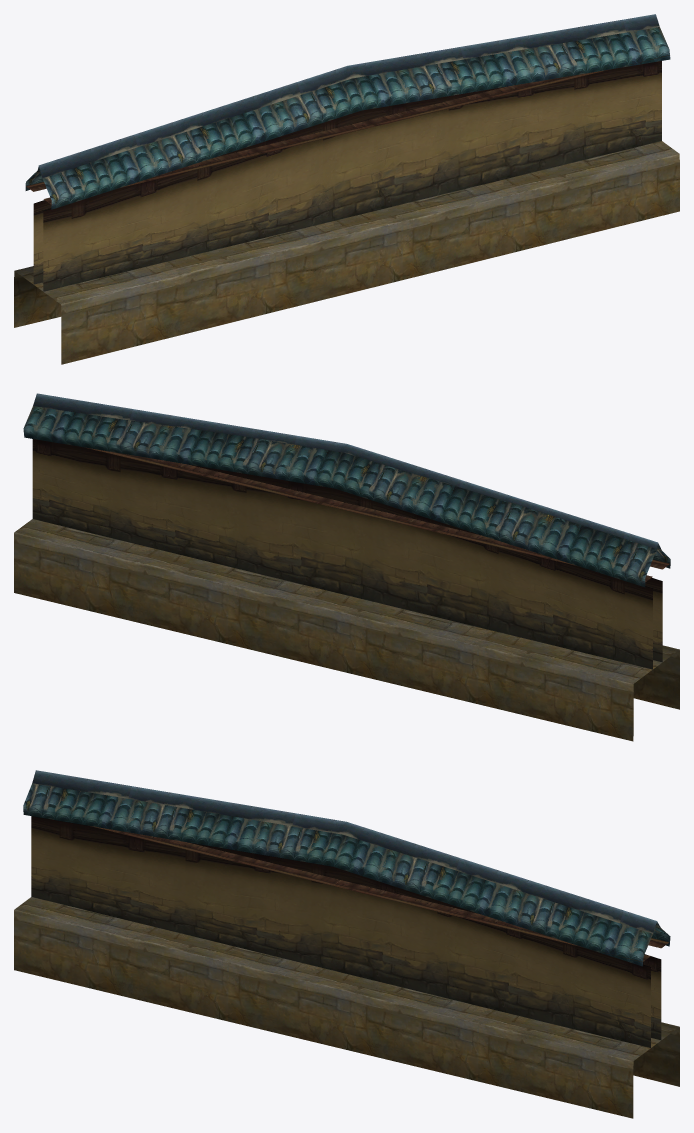
Rendered from environment_building_minjuweijiang_001_01.FBX.
The picture shows the model from 3 angles, top to bottom: view 1: azimuth 30°, elevation 25°; view 2: azimuth 150°, elevation 25°; view 3: azimuth 330°, elevation 25°; orthographic projection.
Visible parts, largest first — view 1: environment_building_minju_003_30, environment_building_minju_003_31, environment_building_minju_003_29, environment_building_minju_003_10; view 2: environment_building_minju_003_30, environment_building_minju_003_31, environment_building_minju_003_29, environment_building_minju_003_10; view 3: environment_building_minju_003_30, environment_building_minju_003_31, environment_building_minju_003_29, environment_building_minju_003_10.
Part boxes in pixels (box(x1,y1,x2,y2)): environment_building_minju_003_30: box(33, 61, 661, 291); environment_building_minju_003_31: box(14, 141, 679, 364); environment_building_minju_003_29: box(25, 14, 670, 209); environment_building_minju_003_10: box(26, 55, 669, 204); environment_building_minju_003_30: box(32, 439, 662, 669); environment_building_minju_003_31: box(14, 519, 679, 741); environment_building_minju_003_29: box(23, 393, 670, 587); environment_building_minju_003_10: box(84, 447, 669, 581); environment_building_minju_003_30: box(31, 816, 661, 1047); environment_building_minju_003_31: box(14, 897, 679, 1118); environment_building_minju_003_29: box(23, 770, 670, 966); environment_building_minju_003_10: box(90, 826, 668, 962).
Bounding box in the file's own units: 1975 × 630 × 260.
